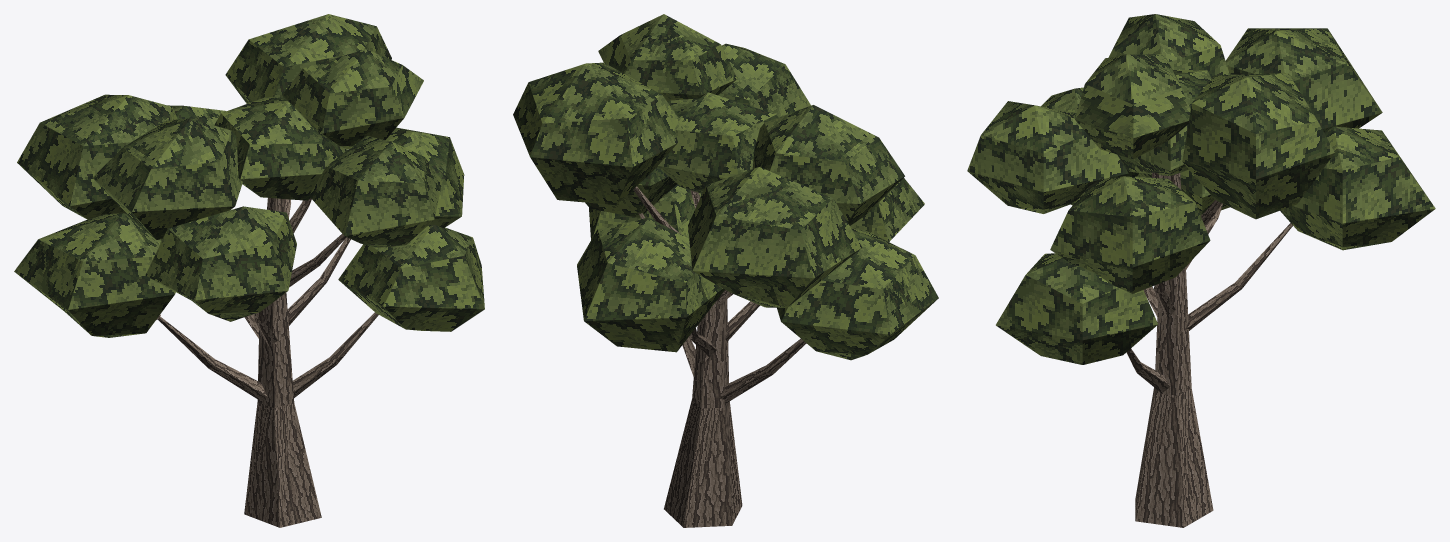
Rendered from TREE_Oak_A_LOD2.glb.
The picture shows the model from 3 angles, left to right: view 1: azimuth 30°, elevation 25°; view 2: azimuth 150°, elevation 25°; view 3: azimuth 270°, elevation 25°; orthographic projection. The views are drawn at different scales.
Visible parts, largest first — view 1: TREE_Oak_A_LOD2__Foliage, TREE_Oak_A_LOD2__Bark; view 2: TREE_Oak_A_LOD2__Foliage, TREE_Oak_A_LOD2__Bark; view 3: TREE_Oak_A_LOD2__Foliage, TREE_Oak_A_LOD2__Bark.
Part boxes in pixels (x1,y1,x2,y2): TREE_Oak_A_LOD2__Foliage: (14,14,484,337); TREE_Oak_A_LOD2__Bark: (156,198,378,527); TREE_Oak_A_LOD2__Foliage: (513,14,938,360); TREE_Oak_A_LOD2__Bark: (633,186,806,527); TREE_Oak_A_LOD2__Foliage: (967,14,1435,364); TREE_Oak_A_LOD2__Bark: (1126,172,1292,527).
Bounding box in the file's own units: 9.38 × 10.65 × 9.29.
2 materials, 2 textured.
